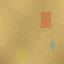person: (50, 41, 55, 50)
structure: (12, 44, 28, 61)
vehicle: (40, 12, 50, 28)
